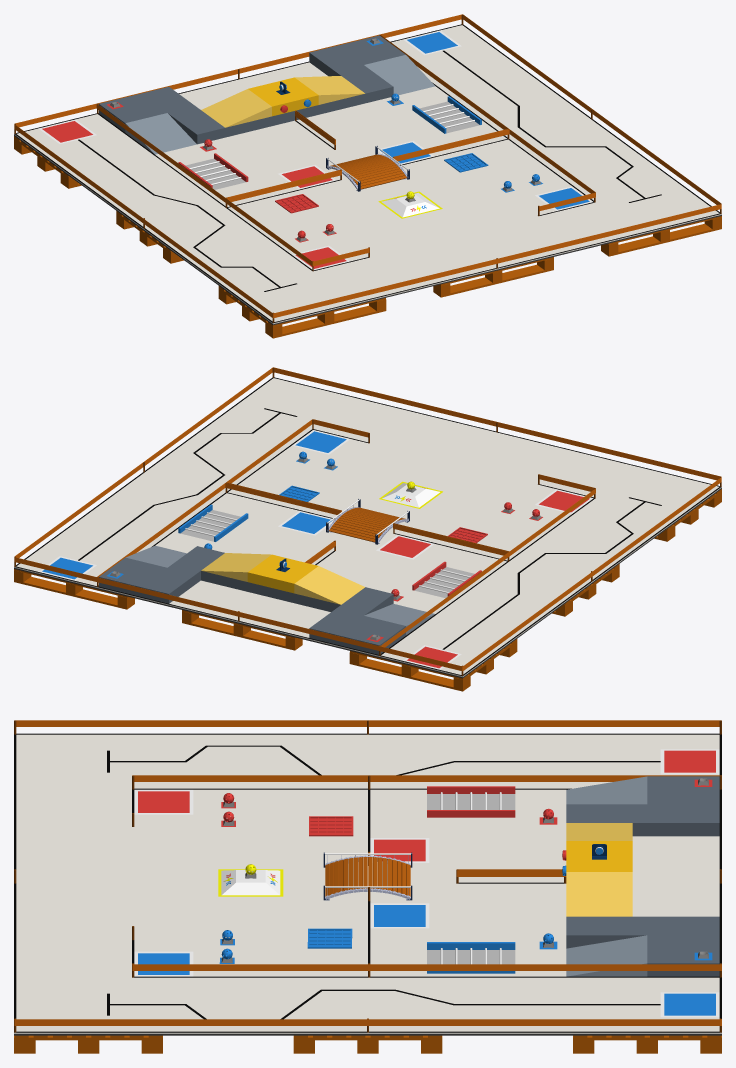
The model's file is sa-ban-2026-v2.glb.
3 views of the same model, one above another, from view 1: azimuth 30°, elevation 25°; view 2: azimuth 150°, elevation 25°; view 3: azimuth 270°, elevation 25° (orthographic). The views are drawn at different scales.
Visible parts, largest first — view 1: Simili, Hàng rào xung quanh, Đài bảo vệ trái, Đài bảo vệ phải, Dốc kiên trì (×2), Hàng rào chặng 2 và 3 (×2), Dốc thăng hoa (×2), Palete 1000 x 1200 x 135mm (×3), Hàng rào phân cách 2 và 3 ngang (×2), Bục vinh quang, Bục cơ hội VÀNG_Bục trắng; view 2: Simili, Hàng rào xung quanh, Đài bảo vệ phải, Đài bảo vệ trái, Hàng rào chặng 2 và 3 (×2), Dốc thăng hoa (×2), Palete 1000 x 1200 x 135mm (×3), Dốc kiên trì (×2), Bục vinh quang, Hàng rào phân cách 2 và 3 ngang (×2), Bục cơ hội VÀNG_Bục trắng, Ván ép 12mm; view 3: Simili, Hàng rào xung quanh, Hàng rào chặng 2 và 3 (×2), Đài bảo vệ trái, Đài bảo vệ phải, Dốc kiên trì (×2), Dốc thăng hoa (×2), Đường thử thách_Hàng rào (×3), Palete 1000 x 1200 x 135mm (×3), Bục vinh quang, Bục cơ hội VÀNG_Bục trắng, Hàng rào giữa chặng 3 (+3 smaller).
Part boxes in pixels (x1,y1,x2,y2): Simili: [14, 24, 721, 324]; Hàng rào xung quanh: [14, 14, 721, 318]; Đài bảo vệ trái: [99, 87, 294, 144]; Đài bảo vệ phải: [296, 35, 405, 119]; Dốc kiên trì (×2): [125, 55, 435, 154]; Hàng rào chặng 2 và 3 (×2): [96, 35, 595, 266]; Dốc thăng hoa (×2): [201, 76, 364, 127]; Palete 1000 x 1200 x 135mm (×3): [265, 223, 721, 338]; Hàng rào phân cách 2 và 3 ngang (×2): [225, 128, 509, 201]; Bục vinh quang: [248, 77, 318, 116]; Bục cơ hội VÀNG_Bục trắng: [381, 192, 439, 217]; Simili: [14, 377, 721, 677]; Hàng rào xung quanh: [14, 367, 721, 671]; Đài bảo vệ phải: [99, 546, 270, 603]; Đài bảo vệ trái: [271, 587, 405, 654]; Hàng rào chặng 2 và 3 (×2): [97, 419, 595, 647]; Dốc thăng hoa (×2): [201, 553, 364, 604]; Palete 1000 x 1200 x 135mm (×3): [14, 576, 470, 691]; Dốc kiên trì (×2): [126, 545, 434, 635]; Bục vinh quang: [247, 554, 317, 593]; Hàng rào phân cách 2 và 3 ngang (×2): [225, 482, 508, 555]; Bục cơ hội VÀNG_Bục trắng: [382, 483, 439, 507]; Ván ép 12mm: [238, 622, 527, 678]; Simili: [14, 733, 721, 1033]; Hàng rào xung quanh: [14, 720, 721, 1025]; Hàng rào chặng 2 và 3 (×2): [132, 775, 721, 970]; Đài bảo vệ trái: [566, 776, 719, 836]; Đài bảo vệ phải: [566, 916, 719, 976]; Dốc kiên trì (×2): [566, 776, 647, 976]; Dốc thăng hoa (×2): [566, 823, 632, 916]; Đường thử thách_Hàng rào (×3): [427, 786, 515, 949]; Palete 1000 x 1200 x 135mm (×3): [14, 1035, 721, 1040]; Bục vinh quang: [566, 841, 632, 871]; Bục cơ hội VÀNG_Bục trắng: [221, 870, 280, 895]; Hàng rào giữa chặng 3: [456, 869, 566, 876].
Bounding box in the file's own units: 4.8 × 0.447 × 4.8.
